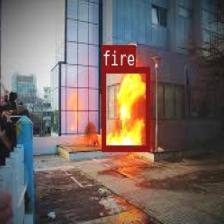fire: (101, 66, 149, 150)
